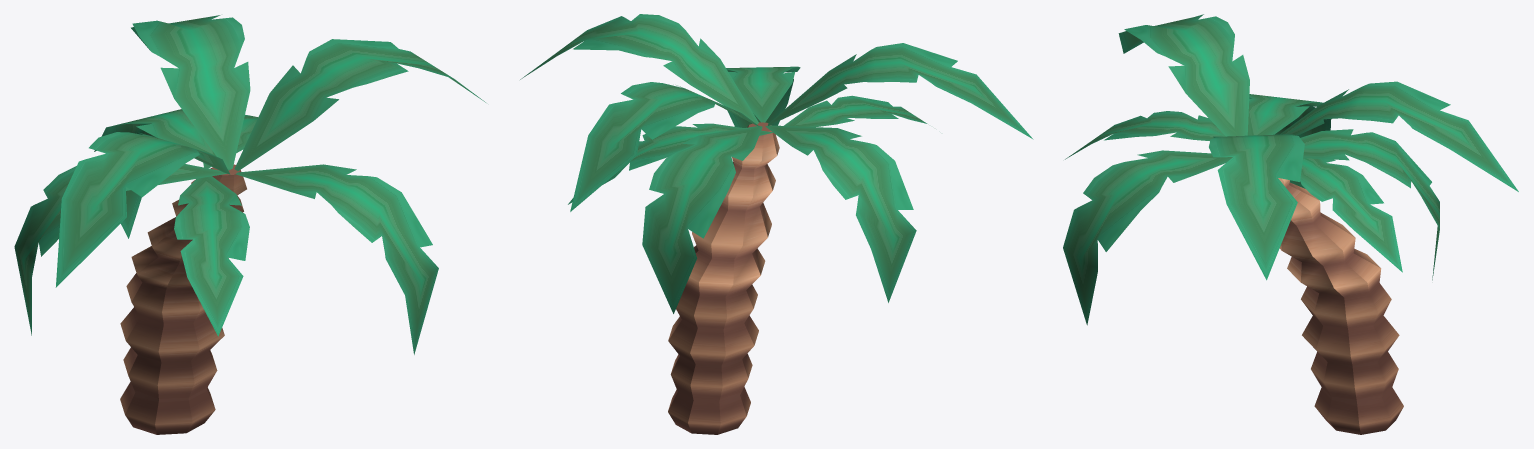
The model's file is PalmTree.fbx.
3 renders of one model, left to right at view 1: azimuth 30°, elevation 25°; view 2: azimuth 150°, elevation 25°; view 3: azimuth 270°, elevation 25°, orthographic. The views are drawn at different scales.
Visible parts, largest first — view 1: Palm; view 2: Palm; view 3: Palm.
Boxes of the visible parts, x1,y1,x2,y2 form: Palm: (14, 15, 485, 434); Palm: (520, 14, 1033, 434); Palm: (1063, 14, 1518, 434).
Size of the model in its own units: 641 by 442 by 547.
